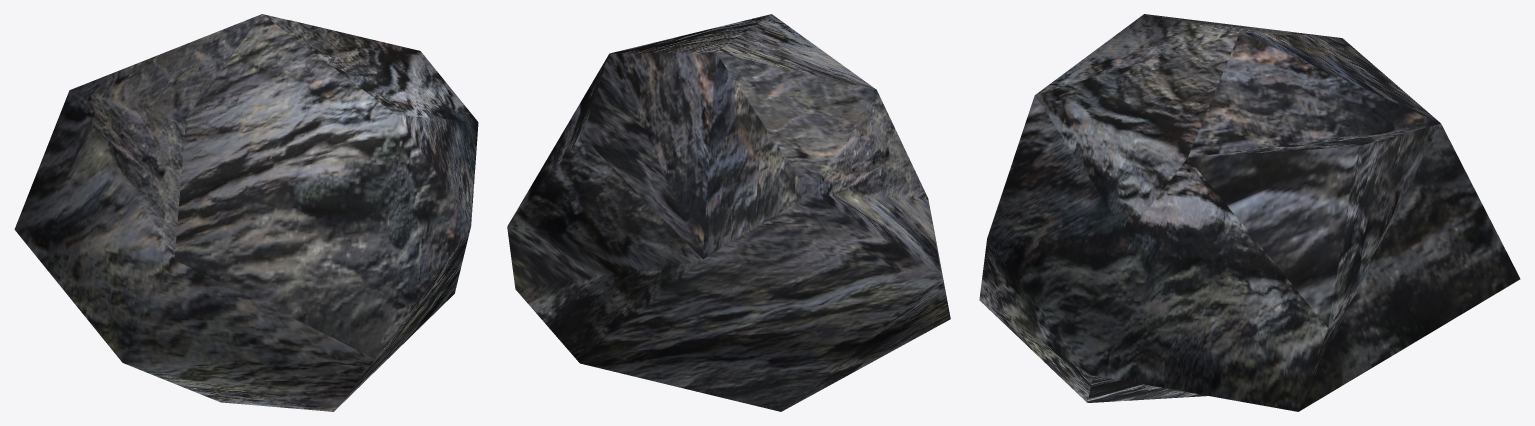
Rendered from Rock3.glb.
3 views of the same model, side by side, from view 1: azimuth 30°, elevation 25°; view 2: azimuth 150°, elevation 25°; view 3: azimuth 270°, elevation 25° (orthographic). The views are drawn at different scales.
Visible parts, largest first — view 1: Icosphere; view 2: Icosphere; view 3: Icosphere.
Part boxes in pixels (x1,y1,x2,y2): Icosphere: [14, 14, 478, 411]; Icosphere: [507, 14, 950, 411]; Icosphere: [979, 14, 1520, 411].
Size of the model in its own units: 2.12 by 1.77 by 2.21.
1 material, 1 textured.
